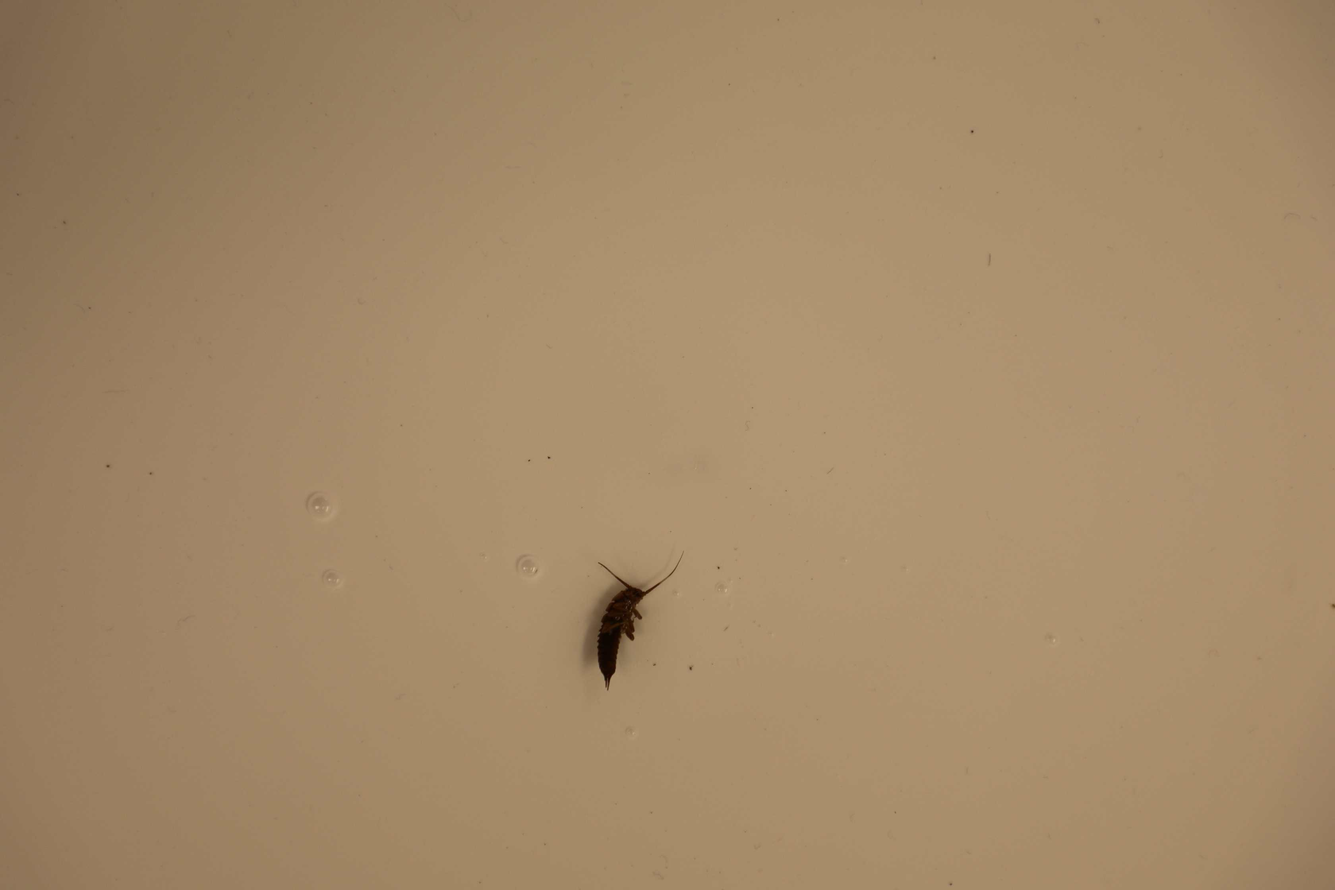Stonefly: (588, 548, 685, 690)
